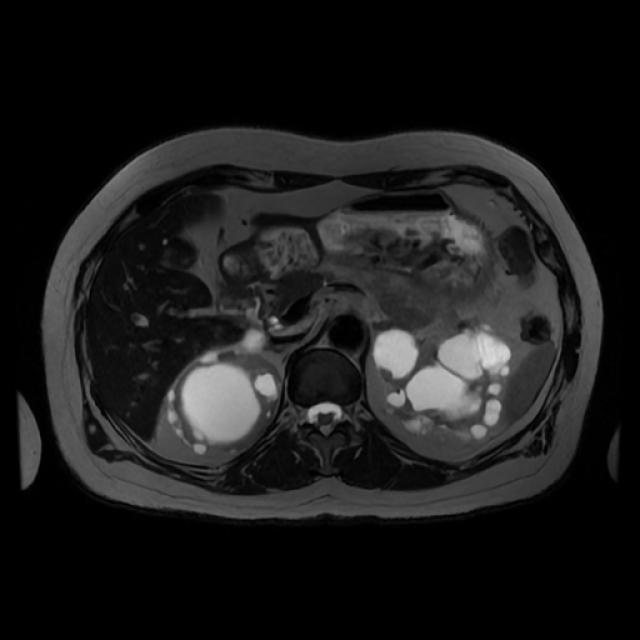sag: (168, 326, 280, 452)
sol: (376, 320, 513, 444)
